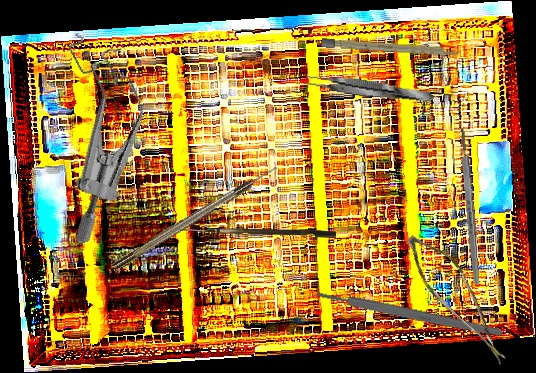Hook Surgical: (110, 164, 280, 271), (171, 228, 336, 238)
Micro Scissor: (386, 227, 534, 367)
Scalpel Handle: (315, 288, 504, 339), (458, 127, 481, 286), (321, 38, 461, 57)
Speculum: (1, 18, 188, 247)
Tissue Forceps: (304, 71, 436, 107)
